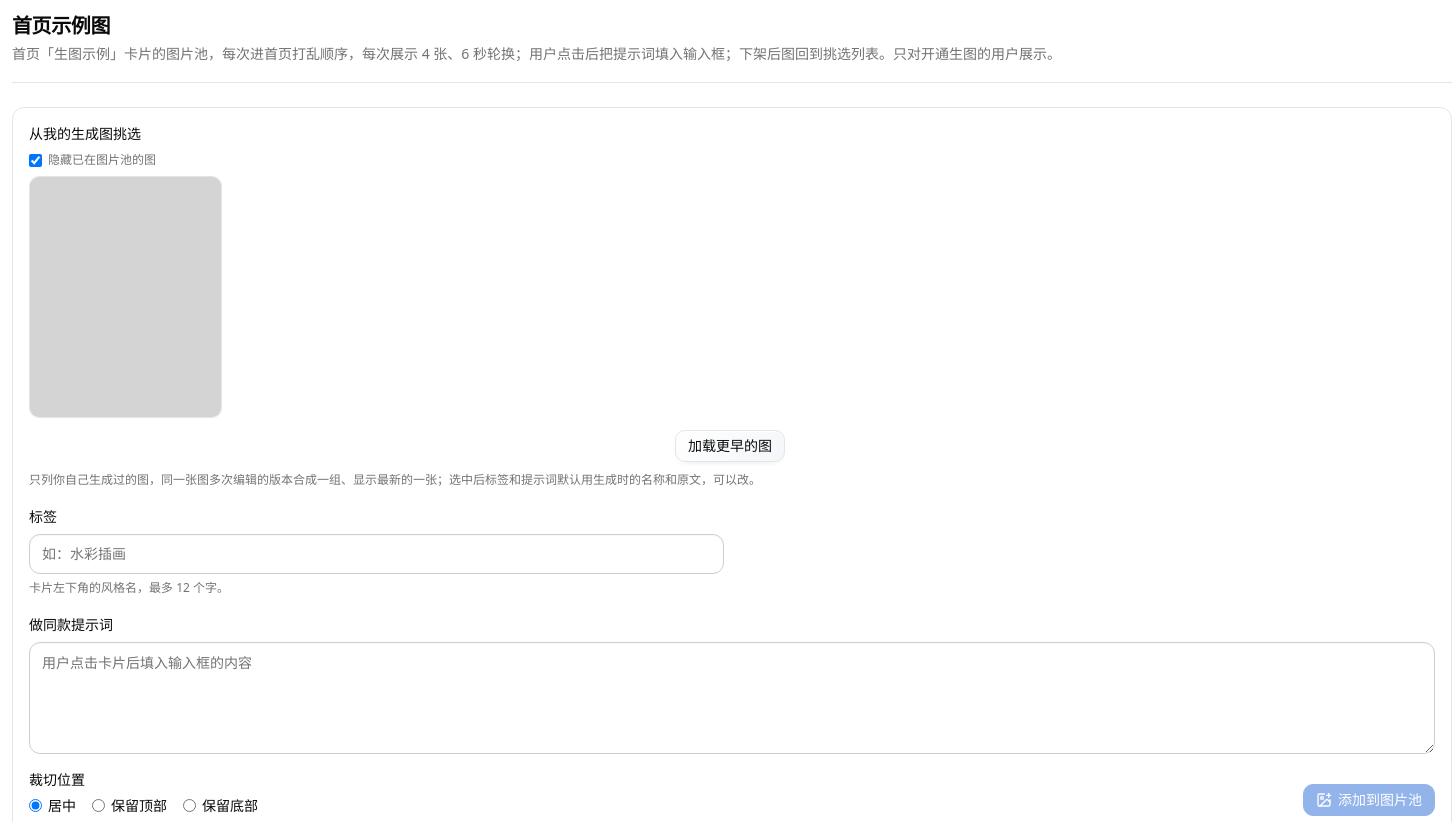
Test: HomeShowcaseManager › 按组分页加载更早的图，跨页重复的组只保留一份
The width and height of the screenshot is (1452, 822).
Click the button "加载更早的图". click: (730, 446)
box: [675, 430, 785, 462]
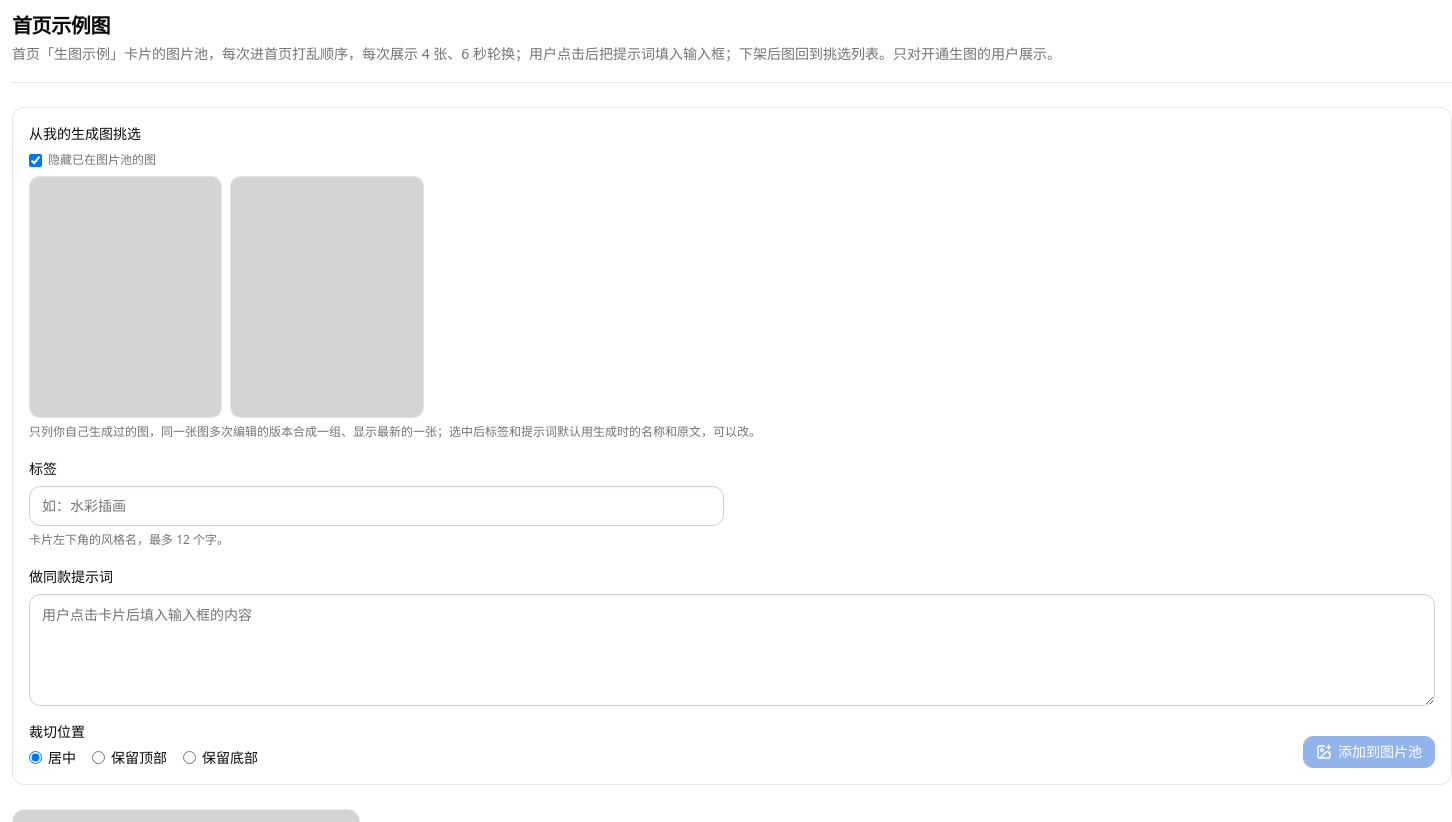
Now the button "加载更早的图" is gone
